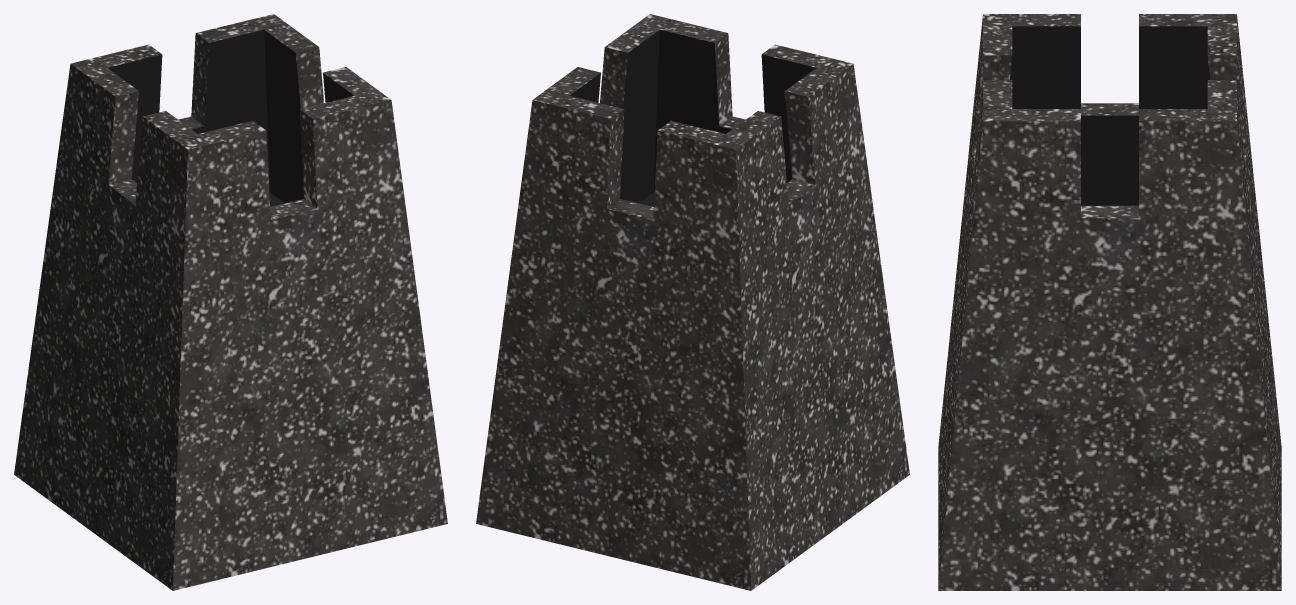
File: black_rook.glb
3 renders of one model, left to right at view 1: azimuth 30°, elevation 25°; view 2: azimuth 150°, elevation 25°; view 3: azimuth 270°, elevation 25°, orthographic. The views are drawn at different scales.
Visible parts, largest first — view 1: Black_Rook; view 2: Black_Rook; view 3: Black_Rook.
Part boxes in pixels (x1,y1,x2,y2): Black_Rook: [14, 14, 447, 590]; Black_Rook: [476, 14, 909, 590]; Black_Rook: [938, 14, 1281, 590].
Bounding box in the file's own units: 0.034 × 0.0493 × 0.034.
Materials: 2 (1 with a texture image).
